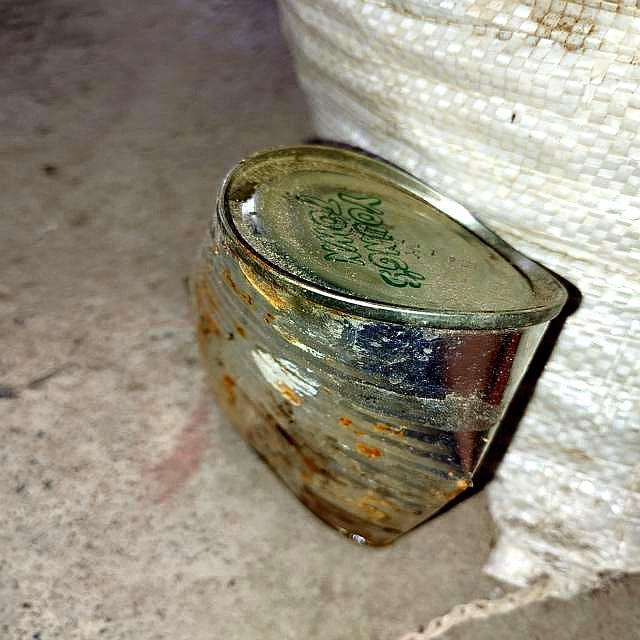Non-biodegradable: (190, 140, 570, 550)
